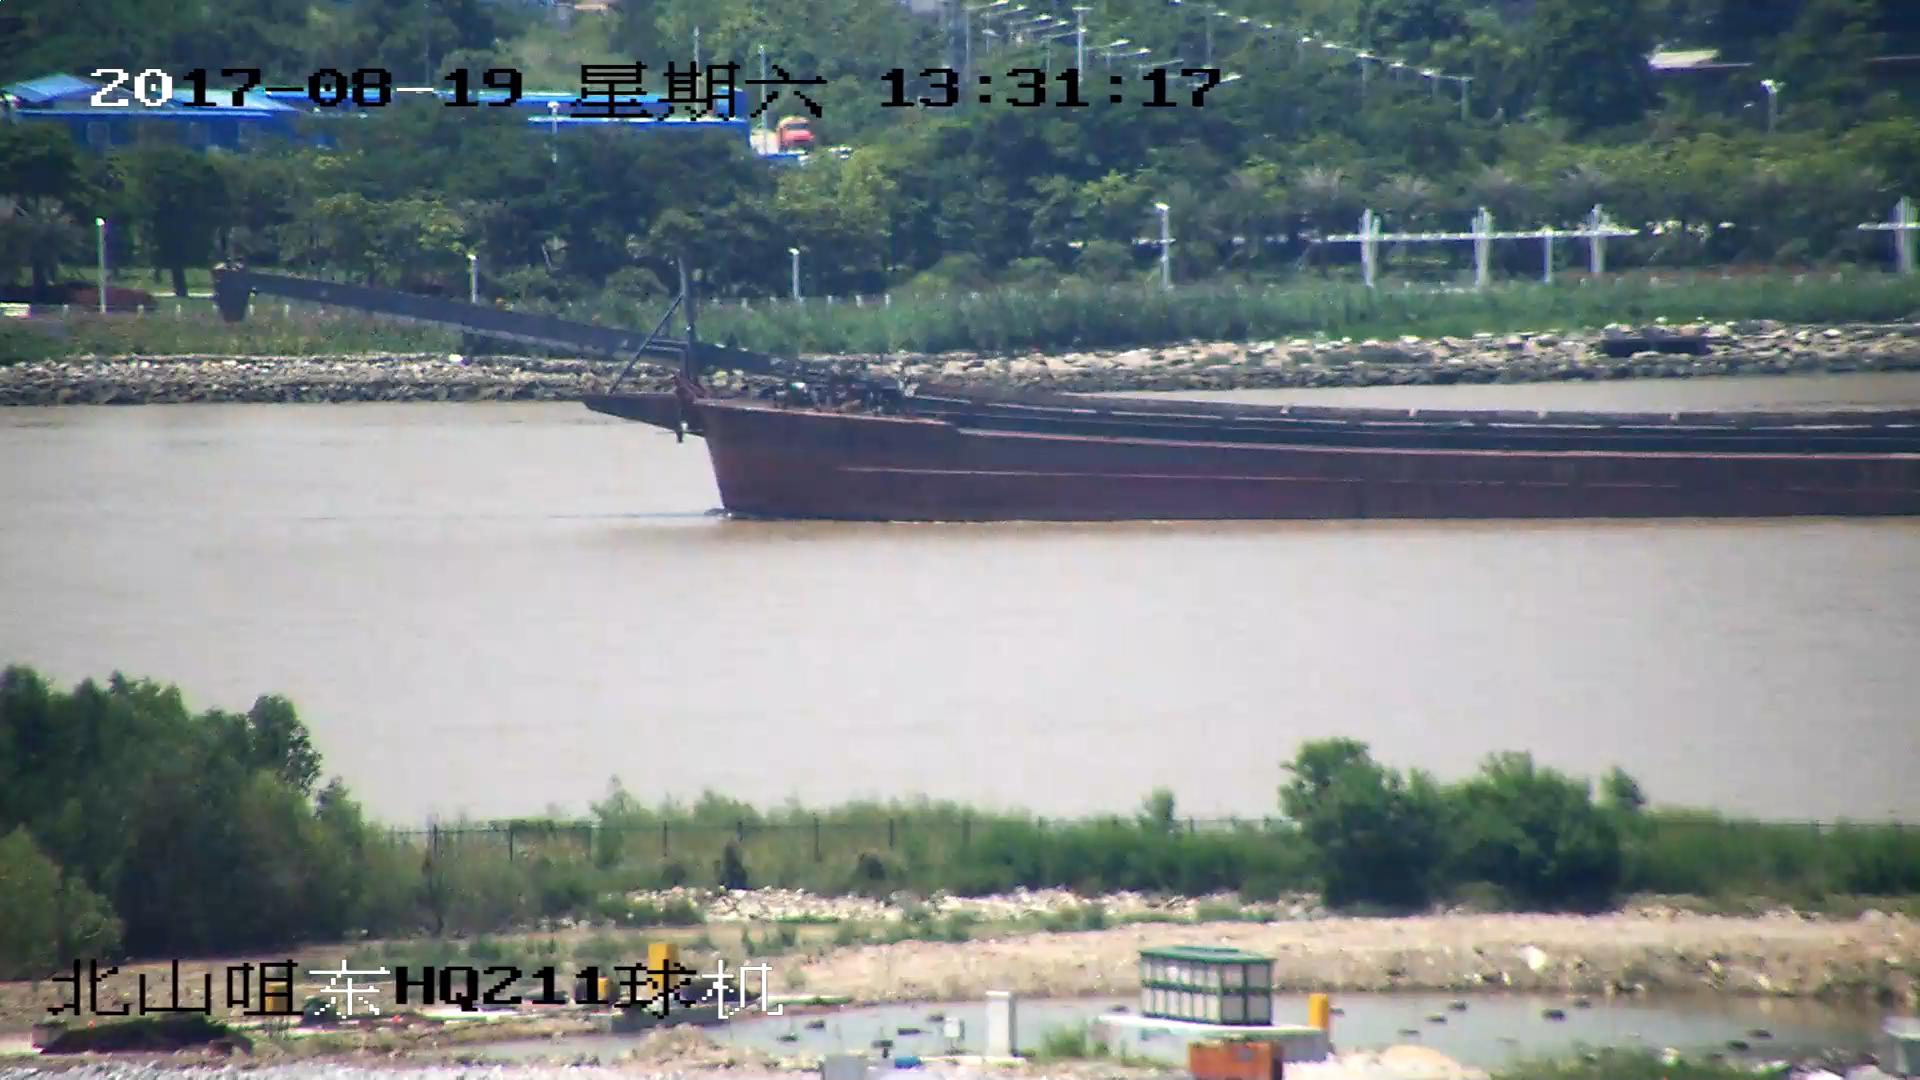bulk cargo carrier: (218, 267, 1920, 522)
